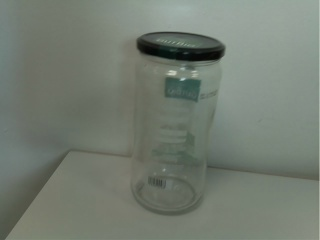pote cristal: (131, 30, 228, 219)
